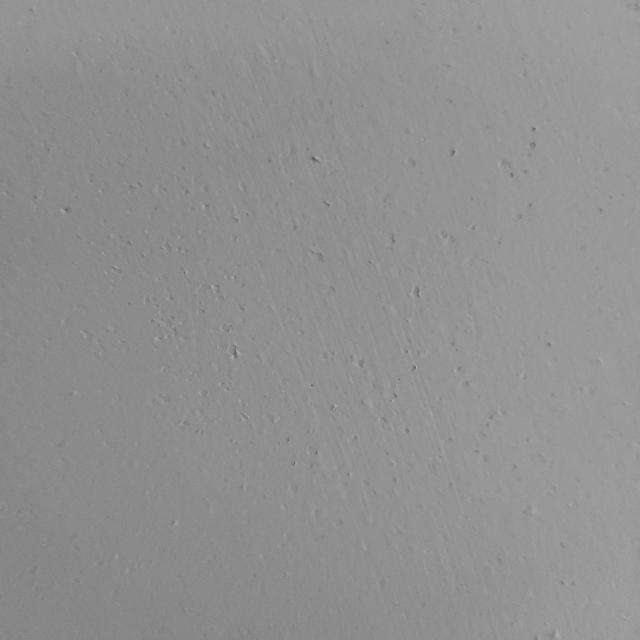rough and patchy surface: (21, 77, 602, 540)
